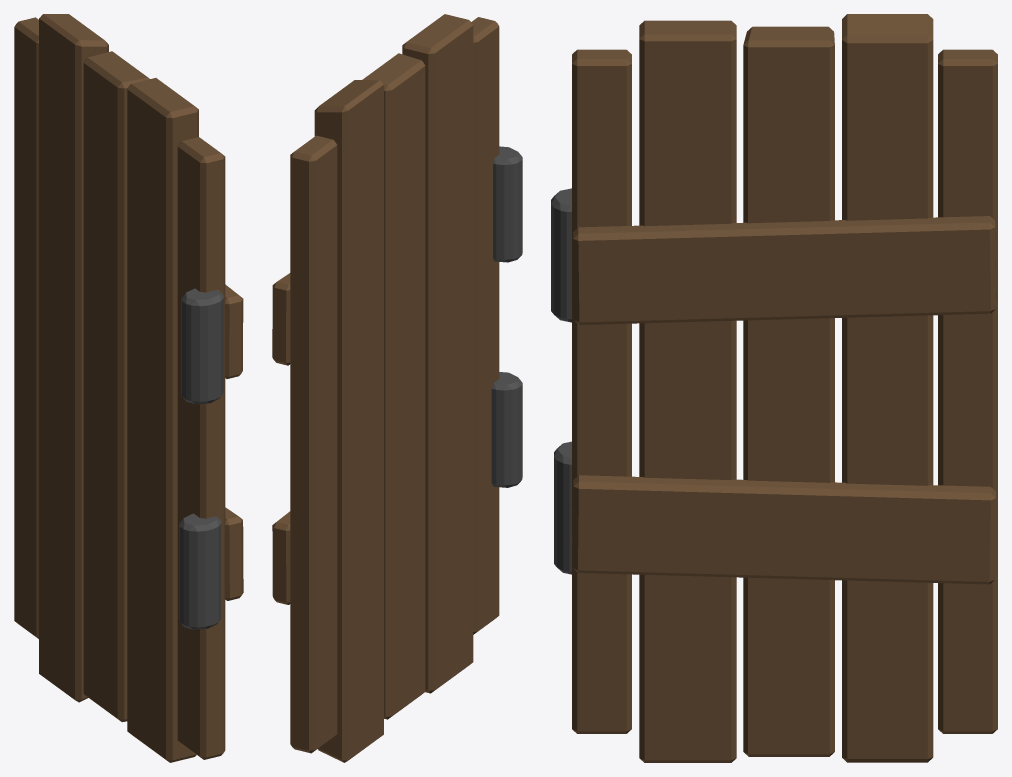
File: Door01.fbx
3 views of the same model, side by side, from view 1: azimuth 30°, elevation 25°; view 2: azimuth 150°, elevation 25°; view 3: azimuth 270°, elevation 25° (orthographic). The views are drawn at different scales.
Visible parts, largest first — view 1: plank3.011; view 2: plank3.011; view 3: plank3.011.
Part boxes in pixels (<box>): plank3.011: <box>14,14,243,762</box>; plank3.011: <box>272,14,522,762</box>; plank3.011: <box>551,14,997,762</box>.
Bounding box in the file's own units: 15.4 × 153 × 83.45.
